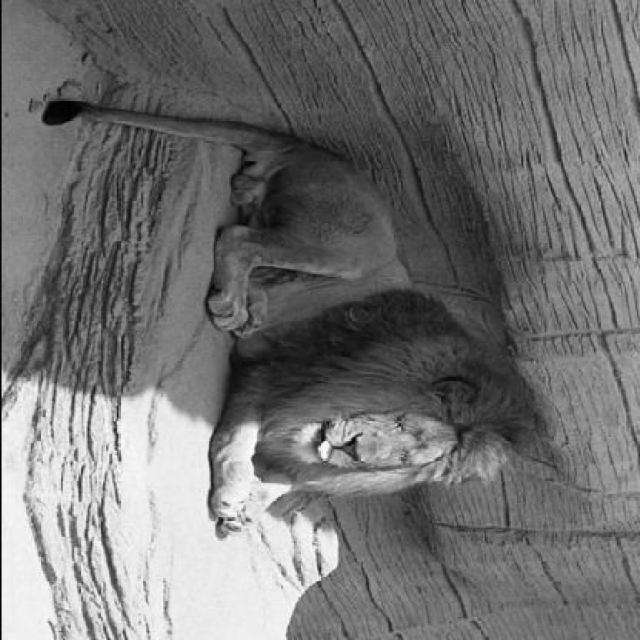Lion: (11, 58, 544, 536)
